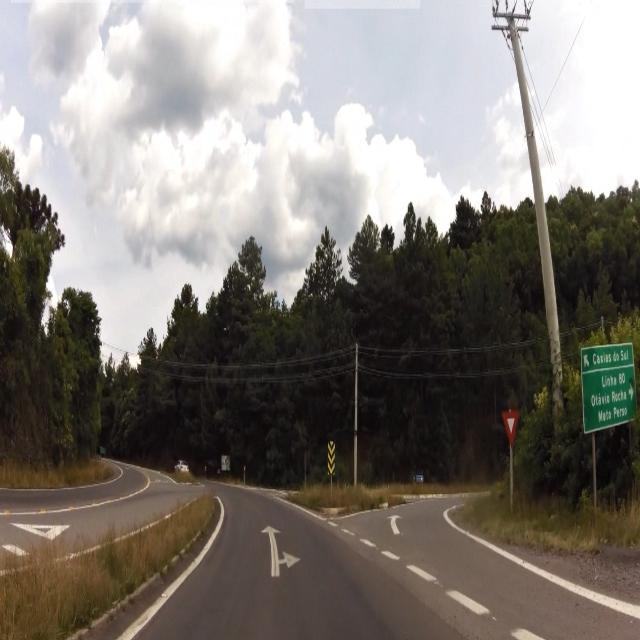I-4: (576, 348, 640, 434)
MP: (327, 440, 337, 479)
R-2: (499, 407, 526, 444)
